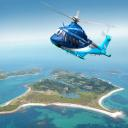helicopter: (49, 5, 117, 62)
